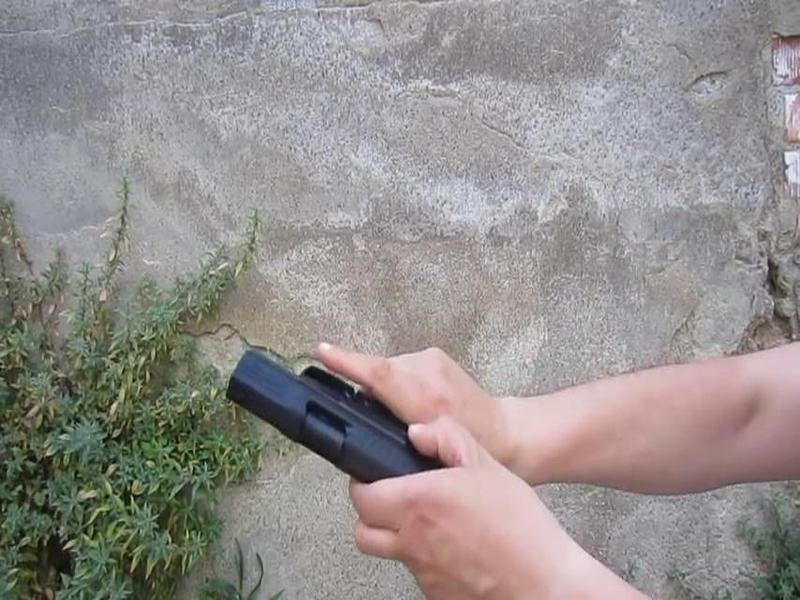Pistola: (167, 347, 499, 564)
